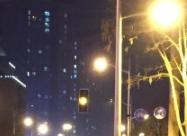yellow_light: (79, 88, 88, 113)
